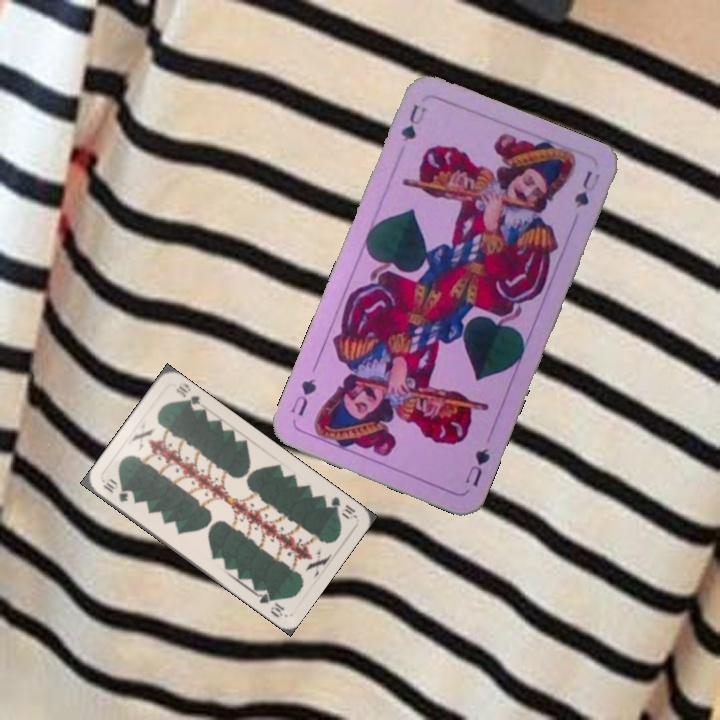G10: (320, 492, 358, 522), (99, 476, 131, 504)
GU: (396, 100, 429, 144), (461, 444, 493, 489)
